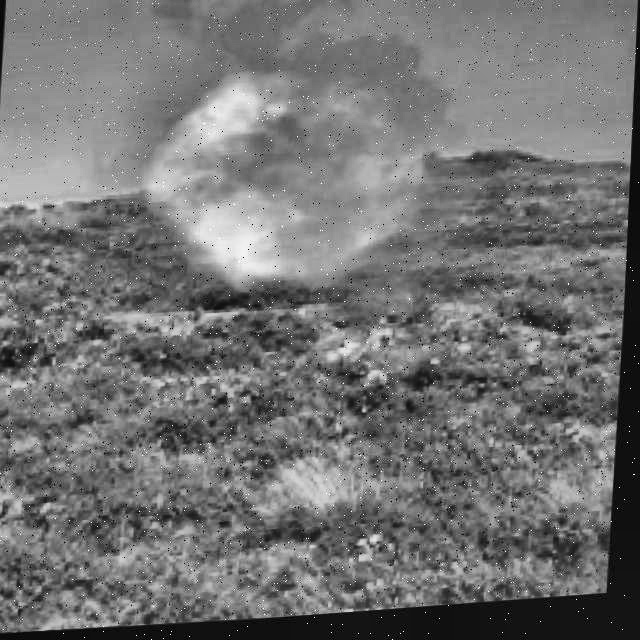Smoke: (55, 0, 521, 361)
